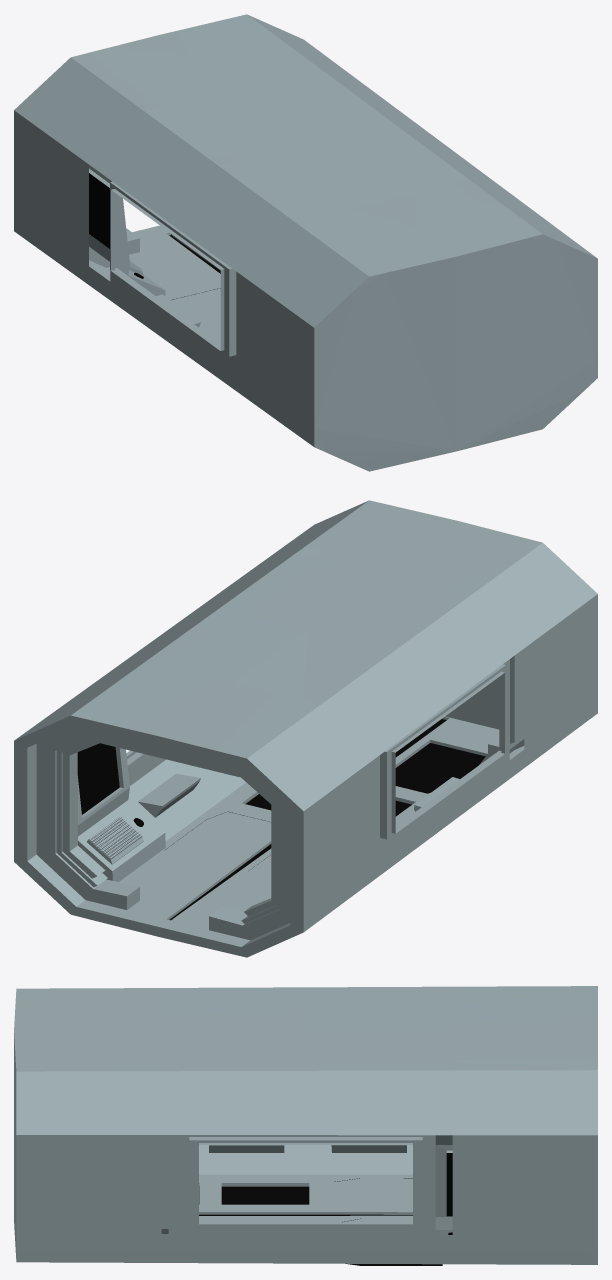
File: spaceshipLighter.glb
The picture shows the model from 3 angles, top to bottom: view 1: azimuth 30°, elevation 25°; view 2: azimuth 150°, elevation 25°; view 3: azimuth 270°, elevation 25°; orthographic projection. The views are drawn at different scales.
Visible parts, largest first — view 1: Cube.001; view 2: Cube.001; view 3: Cube.001.
Part boxes in pixels (x1,y1,x2,y2): Cube.001: (14,14,597,471); Cube.001: (14,500,597,957); Cube.001: (14,986,597,1265).
Bounding box in the file's own units: 14.63 × 10.02 × 26.1.
